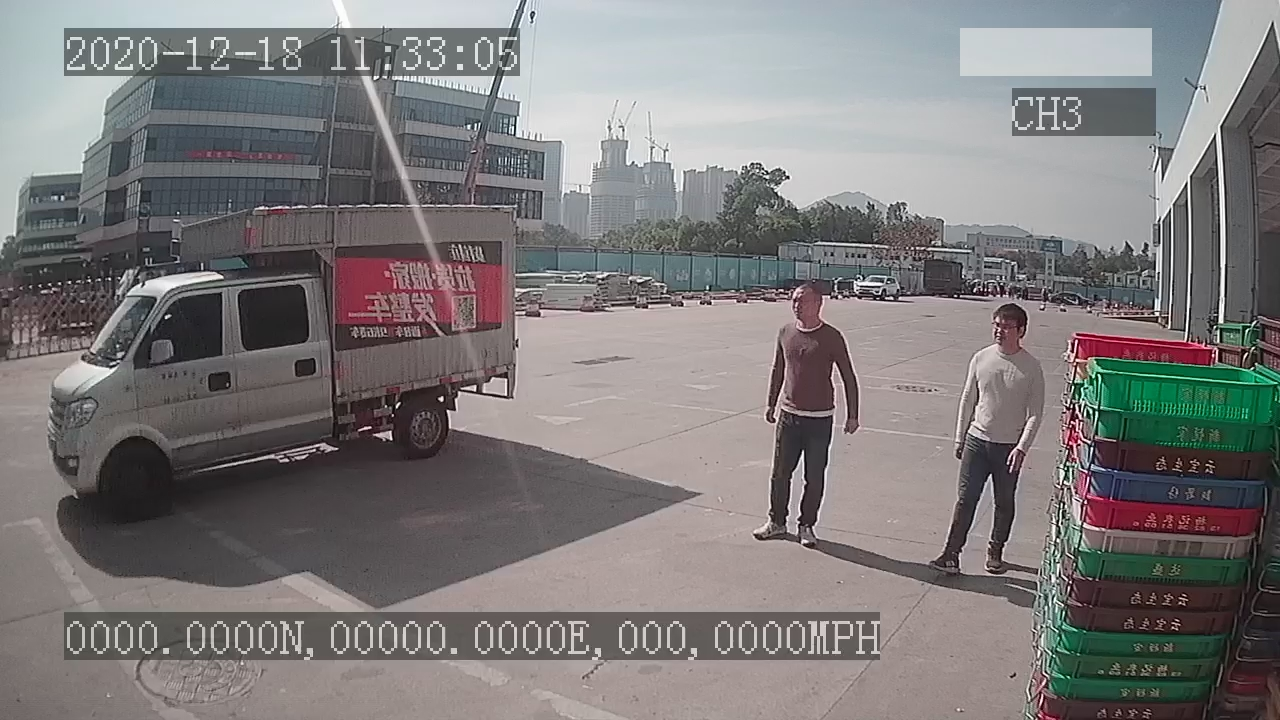person: (927, 299, 1044, 576), (751, 275, 863, 547)
